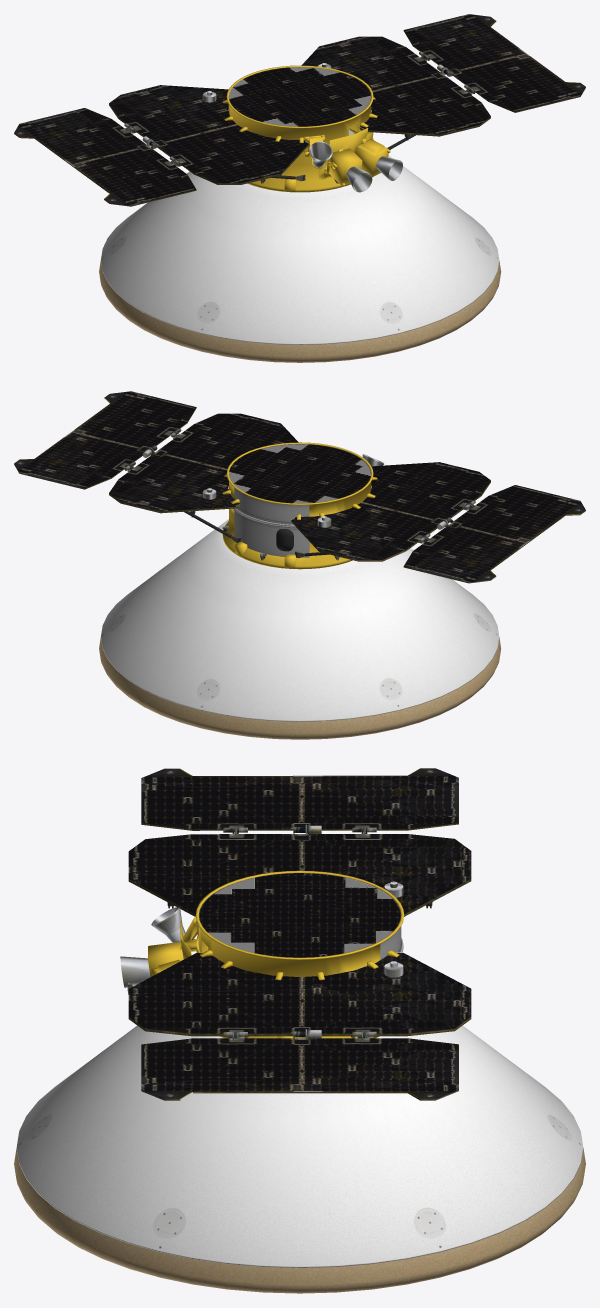
The model's file is phoenix.glb.
3 views of the same model, one above another, from view 1: azimuth 30°, elevation 25°; view 2: azimuth 150°, elevation 25°; view 3: azimuth 270°, elevation 25° (orthographic). The views are drawn at different scales.
Visible parts, largest first — view 1: back_shell, panels_center, panel_L, panel_R, heat_shield, cruise_stage_top, cruise_stage, parts_gold, cams; view 2: back_shell, panels_center, panel_L, panel_R, heat_shield, cruise_stage_top, cruise_stage_side_pnl, cruise_stage, parts_gold; view 3: back_shell, panels_center, panel_R, panel_L, heat_shield, cruise_stage_top, cruise_stage, parts_gold, cams.
Part boxes in pixels (left/top/right/bottom): back_shell: left=101, top=155, right=499, bottom=344; panels_center: left=109, top=36, right=490, bottom=184; panel_L: left=14, top=108, right=196, bottom=206; panel_R: left=403, top=14, right=585, bottom=112; heat_shield: left=99, top=260, right=501, bottom=362; cruise_stage_top: left=229, top=67, right=371, bottom=126; cruise_stage: left=226, top=65, right=373, bottom=192; parts_gold: left=222, top=97, right=390, bottom=190; cams: left=309, top=141, right=402, bottom=192; back_shell: left=101, top=519, right=499, bottom=721; panels_center: left=109, top=413, right=490, bottom=561; panel_L: left=403, top=485, right=585, bottom=583; panel_R: left=14, top=391, right=196, bottom=489; heat_shield: left=99, top=637, right=501, bottom=739; cruise_stage_top: left=229, top=444, right=371, bottom=503; cruise_stage_side_pnl: left=233, top=488, right=309, bottom=557; cruise_stage: left=222, top=442, right=373, bottom=569; parts_gold: left=222, top=474, right=377, bottom=567; back_shell: left=16, top=1025, right=583, bottom=1267; panels_center: left=128, top=824, right=471, bottom=1038; panel_R: left=141, top=1029, right=458, bottom=1100; panel_L: left=141, top=768, right=458, bottom=833; heat_shield: left=14, top=1148, right=585, bottom=1293; cruise_stage_top: left=198, top=873, right=401, bottom=957; cruise_stage: left=195, top=870, right=404, bottom=1038; parts_gold: left=148, top=916, right=399, bottom=1038; cams: left=120, top=907, right=185, bottom=994.
Size of the model in its own units: 3.6 by 1.77 by 2.63.
13 materials, 9 textured.
